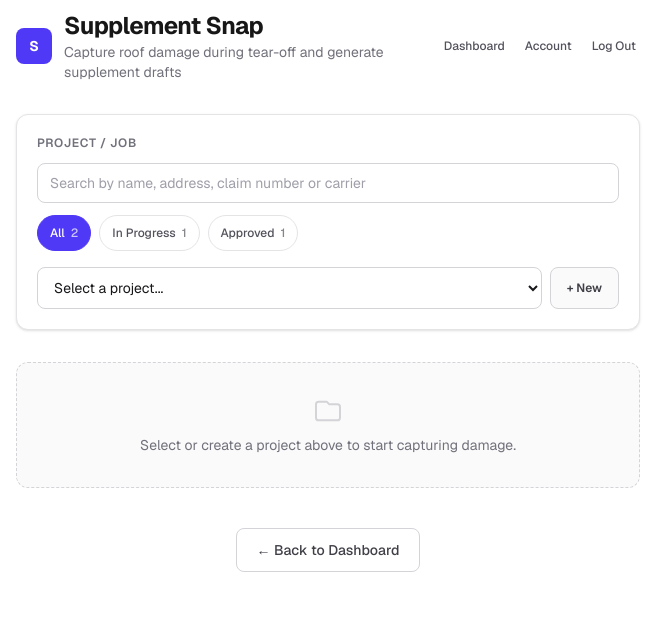
Test: dashboard smoke test (stand-in database) › shows search and filters once there are several projects, and filters by status and text
Expected: the element with test id "claims-overview" is shown, [37,163,619,251]
Click the button "Approved 1".
click(253, 233)  # box [208,215,298,251]
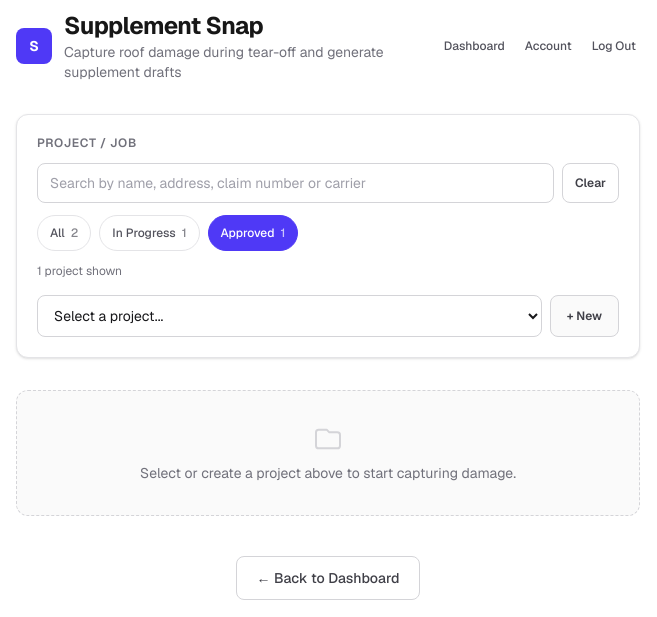
Click the button "Clear".
click(591, 183)  # box [562,163,619,203]
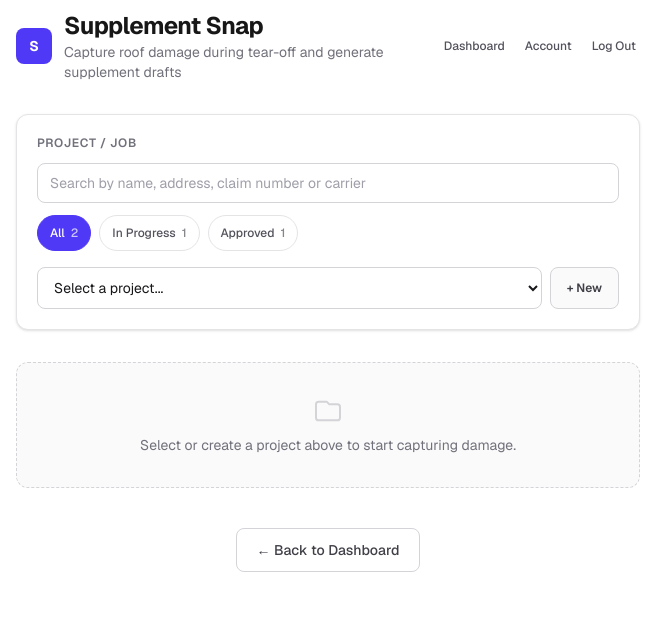
Type "sf-3003" into the search field named "Search projects".
click(328, 183); type("sf-3003")  # box [37,163,619,203]
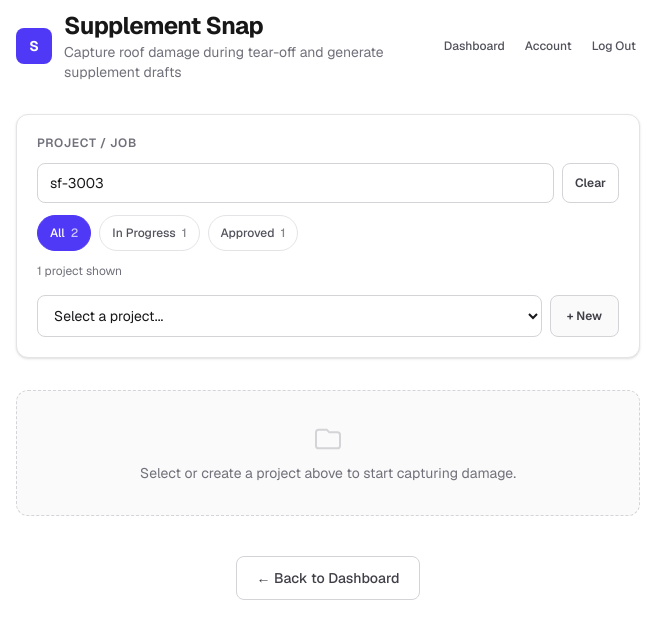
Now the text "1 project shown" is shown, box [37,263,122,279]
